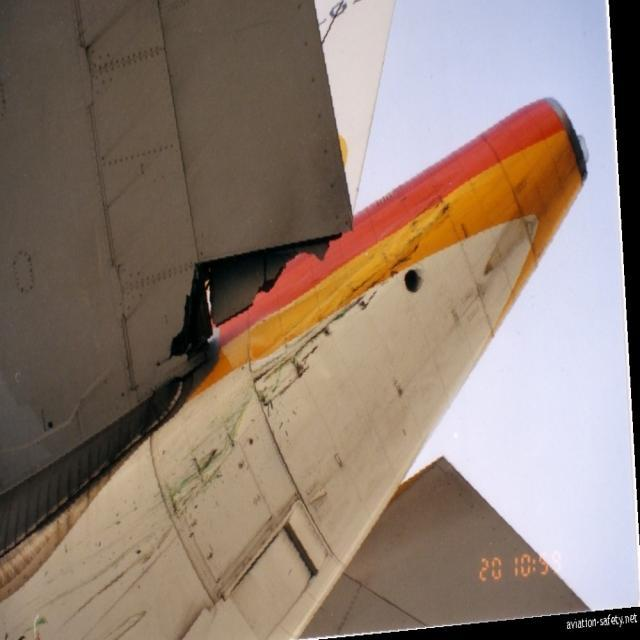crack: (151, 234, 343, 371)
